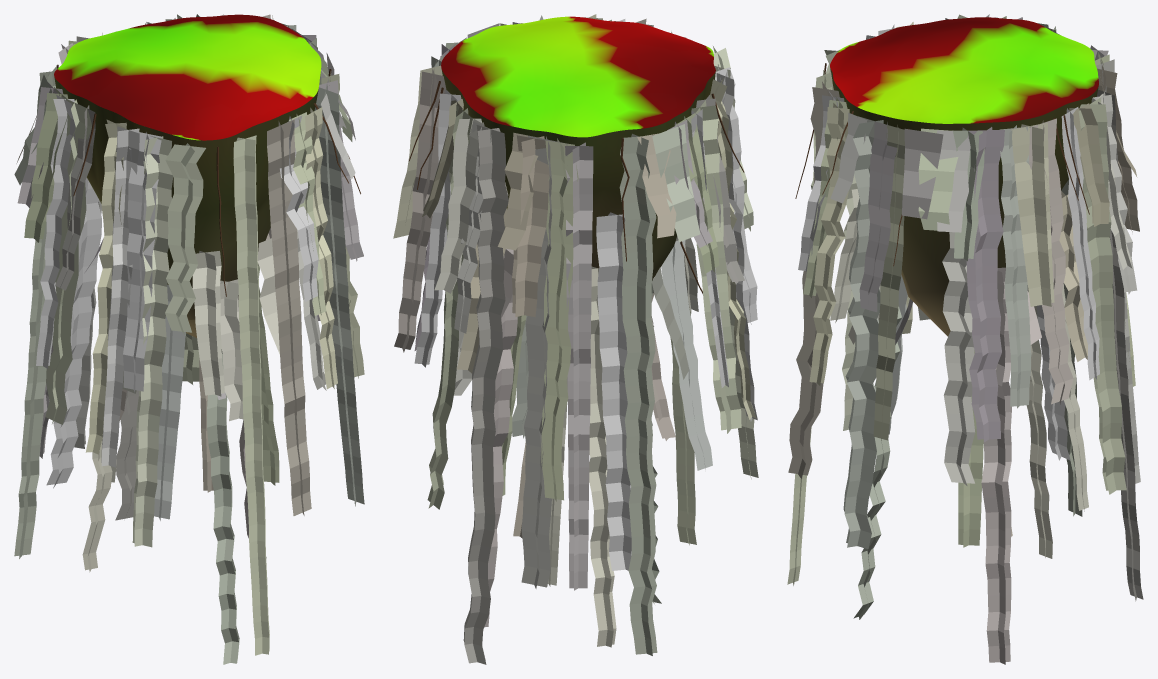
The model's file is SM_H09_Floater02.fbx.
3 renders of one model, left to right at view 1: azimuth 30°, elevation 25°; view 2: azimuth 150°, elevation 25°; view 3: azimuth 270°, elevation 25°, orthographic. The views are drawn at different scales.
Visible parts, largest first — view 1: SM_H09_Floater02_Ivy, SM_H09_Floater02; view 2: SM_H09_Floater02_Ivy, SM_H09_Floater02; view 3: SM_H09_Floater02_Ivy, SM_H09_Floater02.
Part boxes in pixels (x1=…): SM_H09_Floater02_Ivy: x1=14, y1=14, x2=364, y2=664; SM_H09_Floater02: x1=54, y1=14, x2=321, y2=337; SM_H09_Floater02_Ivy: x1=393, y1=14, x2=758, y2=664; SM_H09_Floater02: x1=441, y1=16, x2=715, y2=280; SM_H09_Floater02_Ivy: x1=787, y1=14, x2=1143, y2=664; SM_H09_Floater02: x1=830, y1=17, x2=1098, y2=336.
Bounding box in the file's own units: 18.12 × 32.1 × 18.36.
